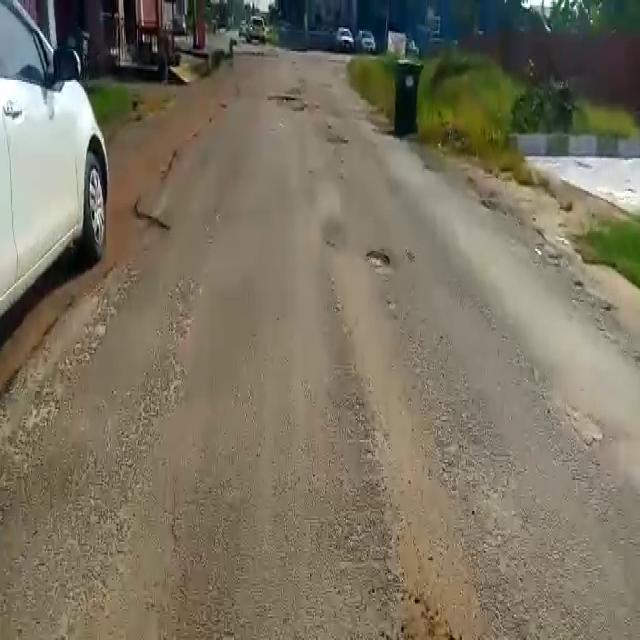pothole: (365, 247, 398, 274)
